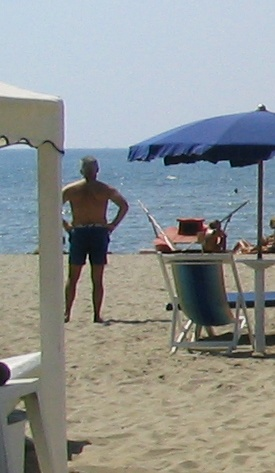person: (61, 152, 119, 326)
